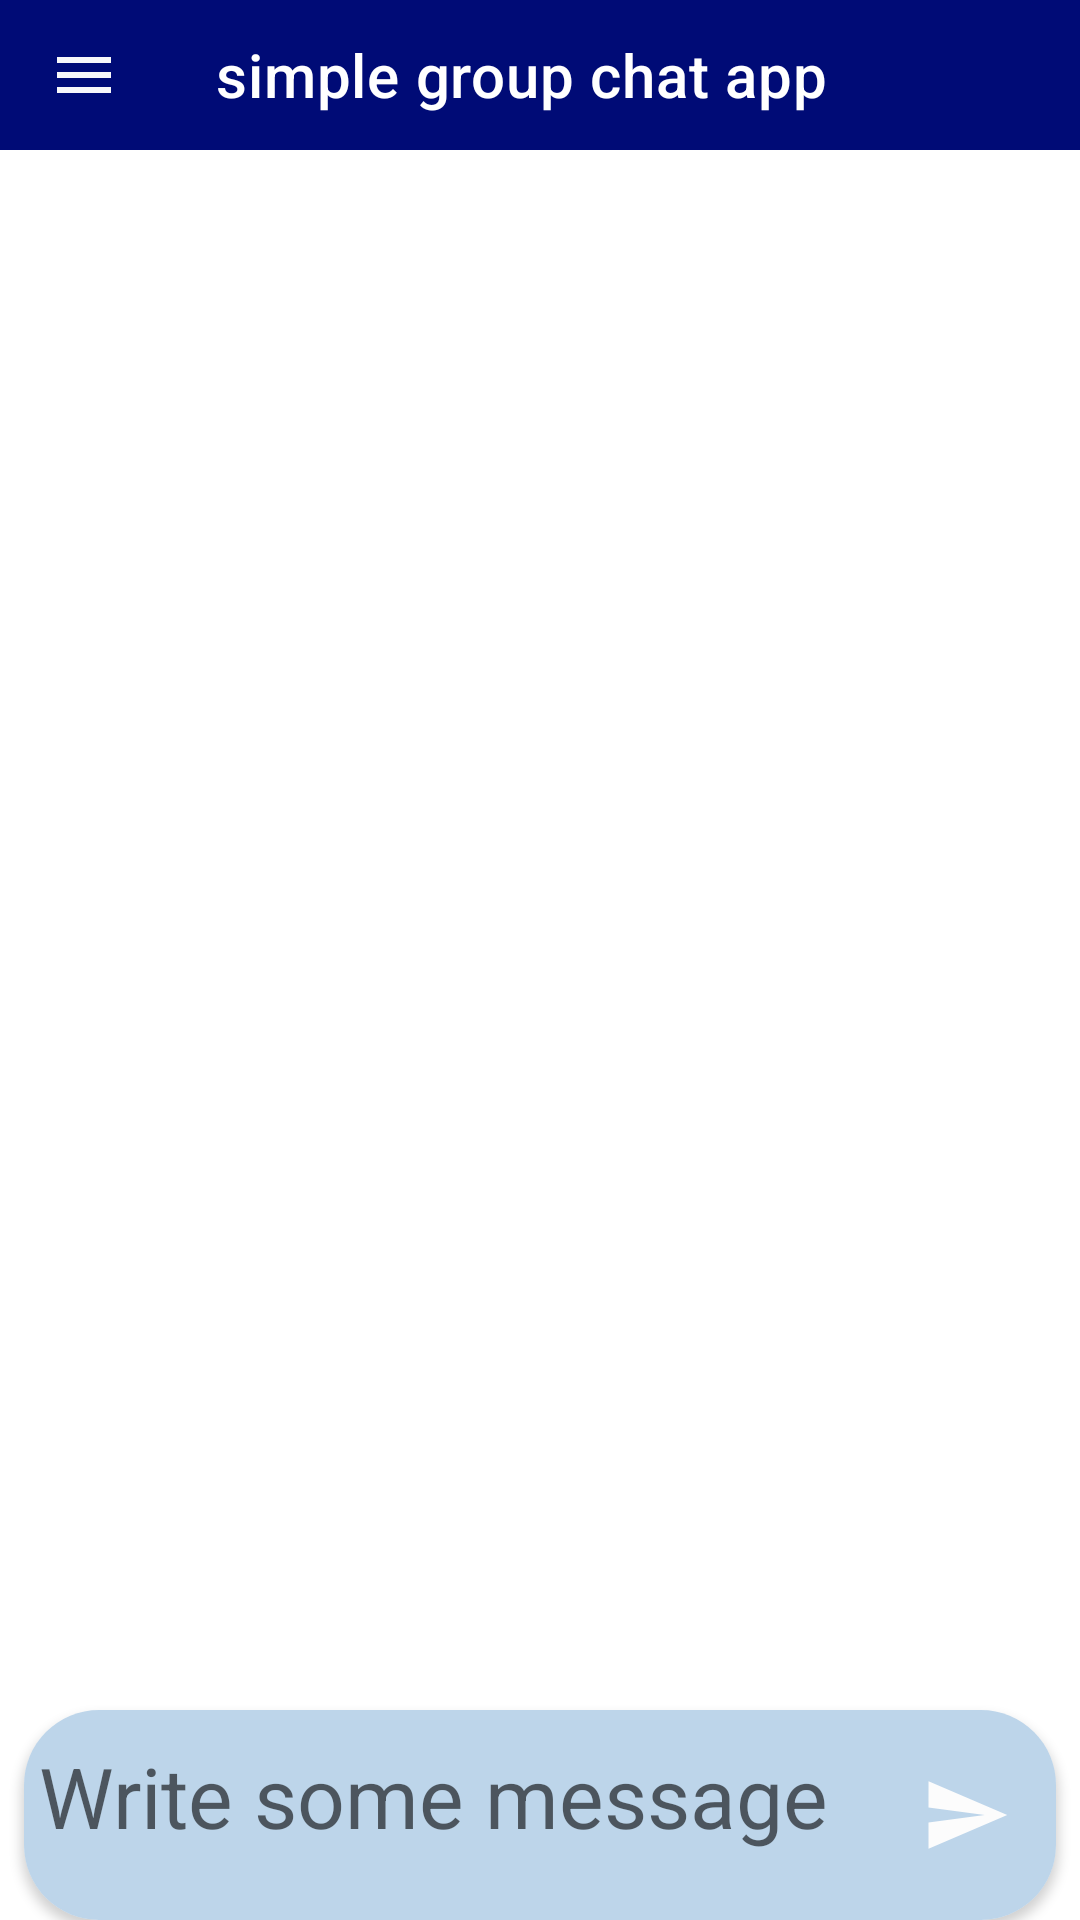

Icons on this 1080px x 1920px Android screen, each with its box as region(x1, y1, x2, y2):
send: region(928, 1782, 1006, 1848)
